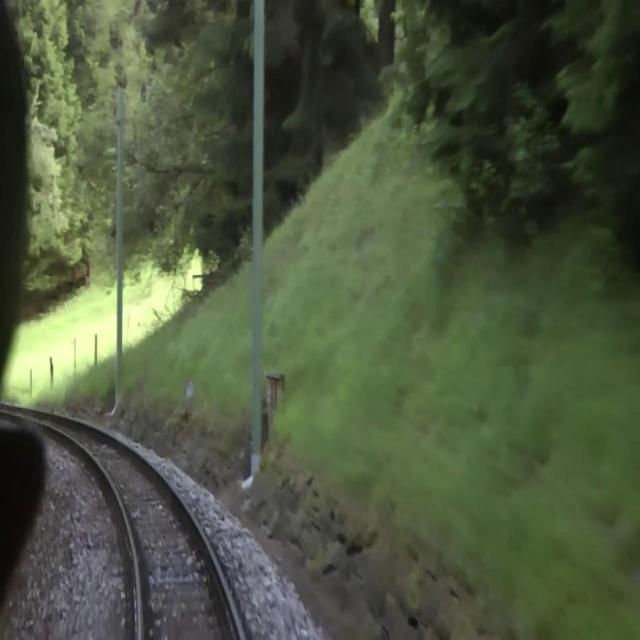rail-track: (34, 414, 240, 639)
